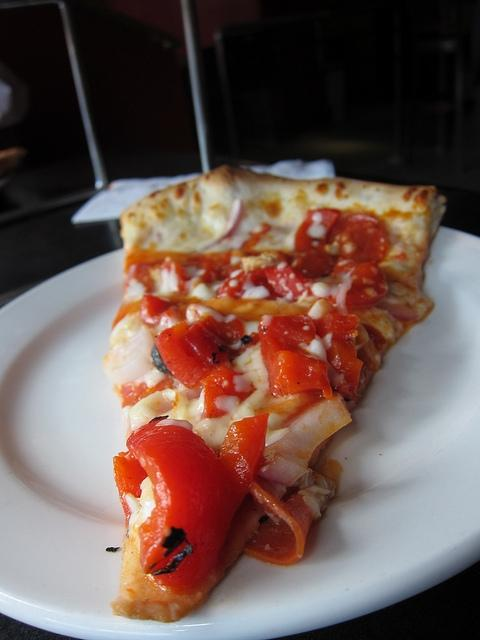onion: (256, 392, 352, 486), (103, 326, 153, 384), (196, 197, 244, 251), (374, 302, 418, 322)
